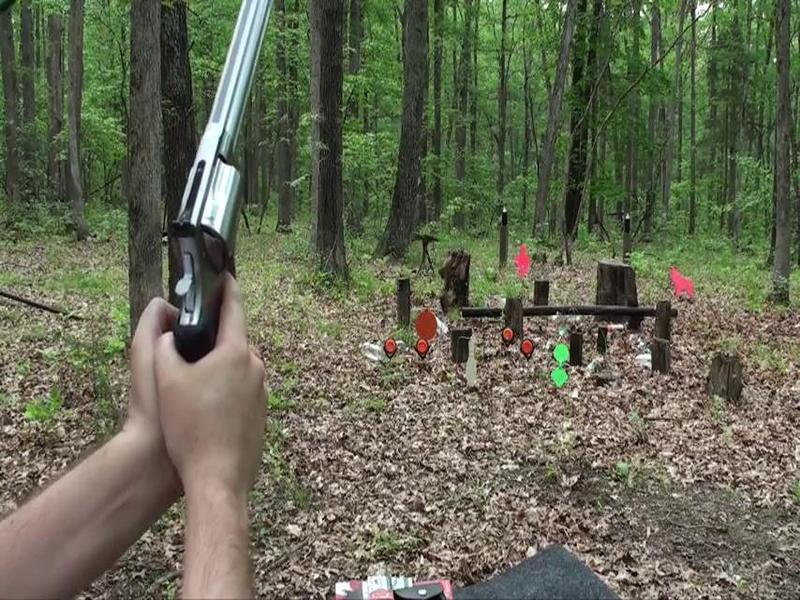Revolver: (117, 1, 303, 375)
